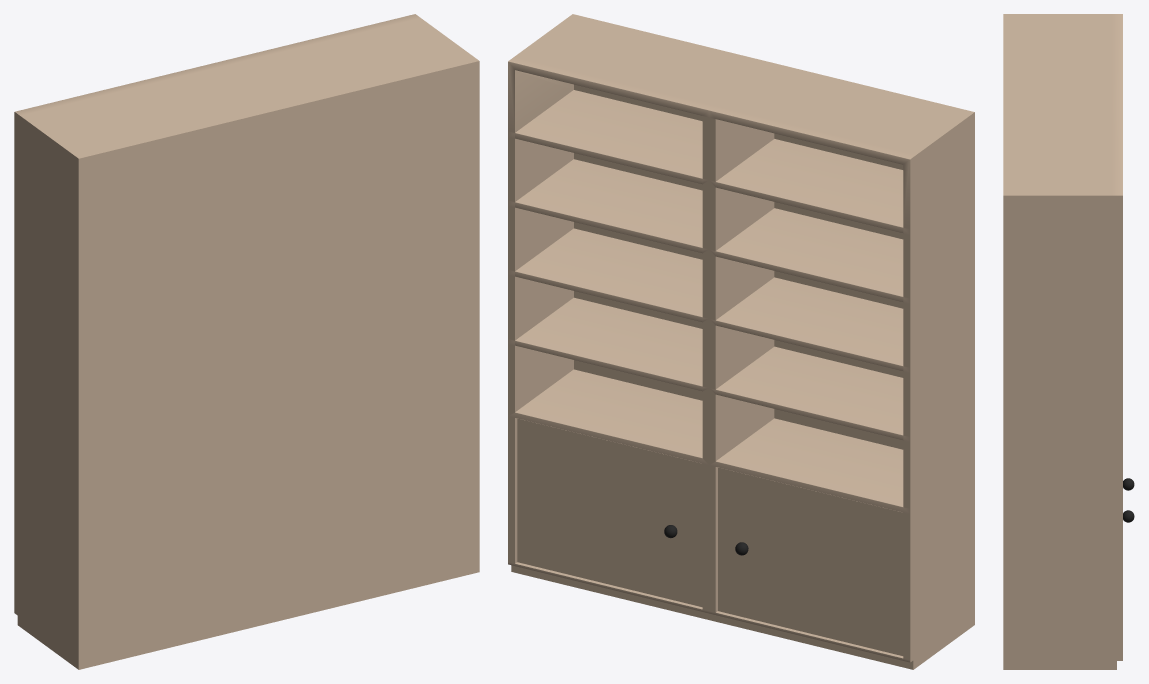
Rendered from Bookshelf.fbx.
The picture shows the model from 3 angles, left to right: view 1: azimuth 30°, elevation 25°; view 2: azimuth 150°, elevation 25°; view 3: azimuth 270°, elevation 25°; orthographic projection. The views are drawn at different scales.
Visible parts, largest first — view 1: Bookshelf; view 2: Bookshelf; view 3: Bookshelf, Knob.
Boxes of the visible parts, bbox=[...] form: Bookshelf: bbox=[14, 14, 479, 669]; Bookshelf: bbox=[508, 14, 974, 669]; Bookshelf: bbox=[1003, 14, 1122, 669]; Knob: bbox=[1123, 478, 1134, 522].
Size of the model in its own units: 200 by 244 by 61.
